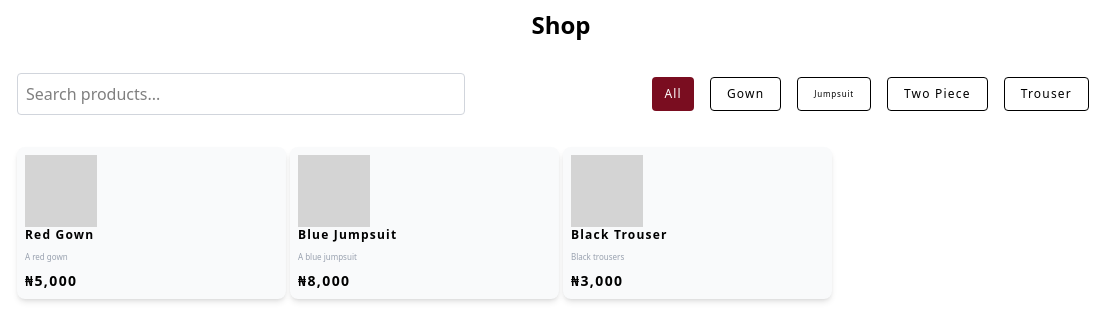
Test: Product Page › filters by Jumpsuit category
Click the button "Jumpsuit". click: click(834, 94)
box: [797, 77, 871, 111]
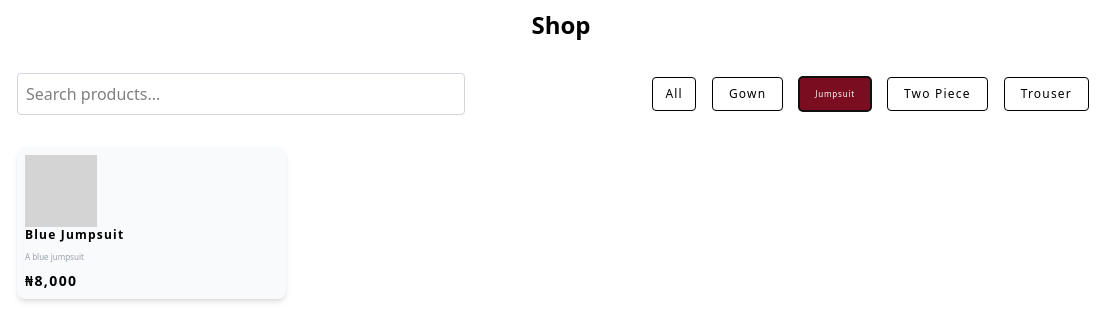
Expected: the text "Blue Jumpsuit" is shown, [25, 226, 124, 243]
Expected: the text "Red Gown" is gone
